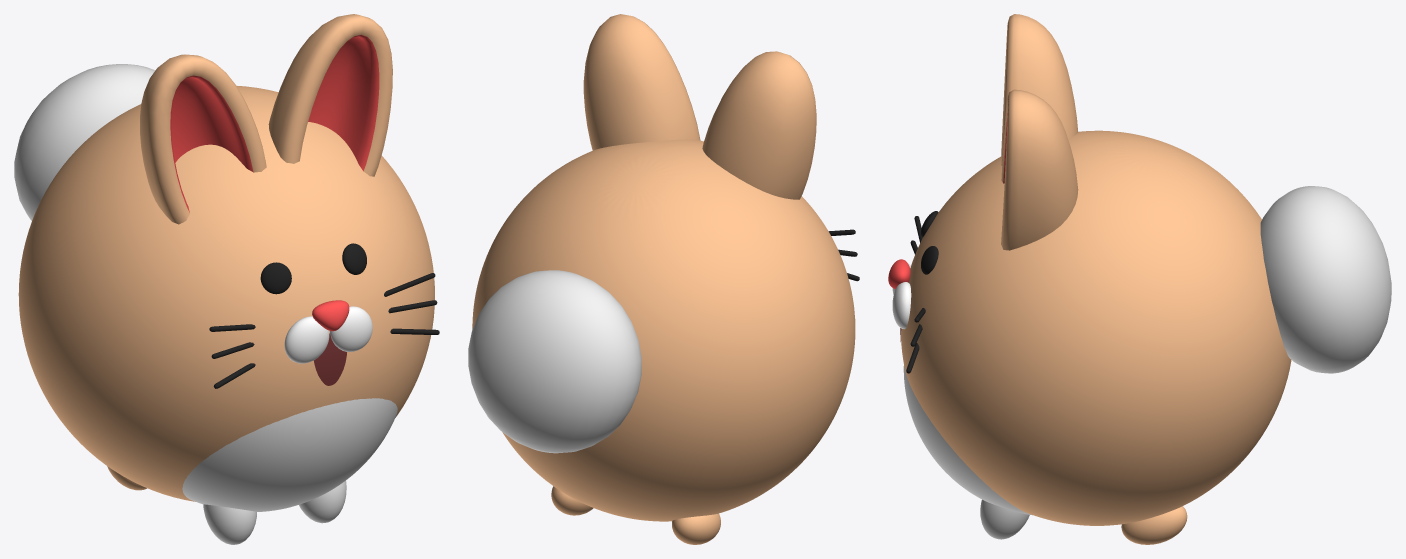
Rendered from bunny2.glb.
The picture shows the model from 3 angles, left to right: view 1: azimuth 30°, elevation 25°; view 2: azimuth 150°, elevation 25°; view 3: azimuth 270°, elevation 25°; orthographic projection. The views are drawn at different scales.
Parts seen in each view (by area): view 1: Rabbit_0; view 2: Rabbit_0; view 3: Rabbit_0.
Boxes of the visible parts, x1,y1,x2,y2 form: Rabbit_0: (14, 14, 439, 544); Rabbit_0: (468, 14, 859, 544); Rabbit_0: (888, 14, 1391, 544).
Size of the model in its own units: 1.97 by 2.56 by 2.53.
